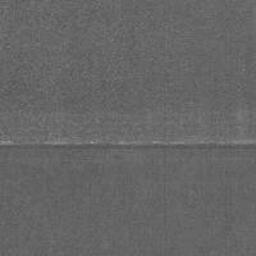Welding line: (0, 142, 256, 149)
